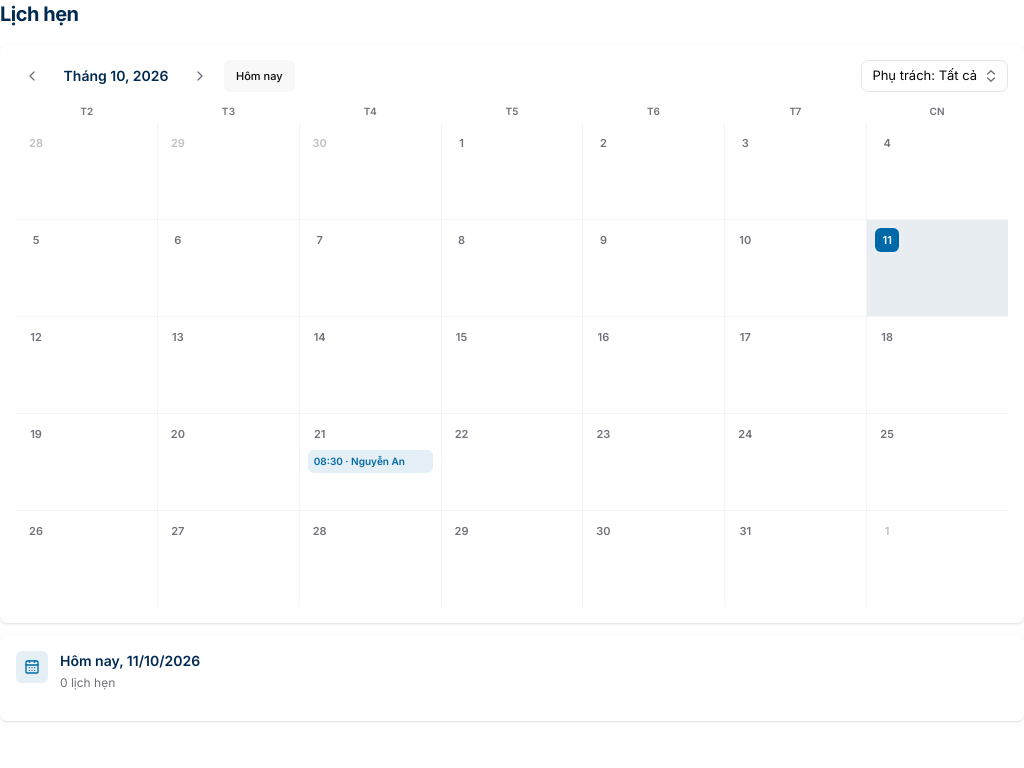
Test case: AppointmentCalendar › không có appointment.delete → không thấy nút Xoá
Click the button "08:30 · Nguyễn An".
click(370, 462)  # box x1=308 y1=450 x2=433 y2=473
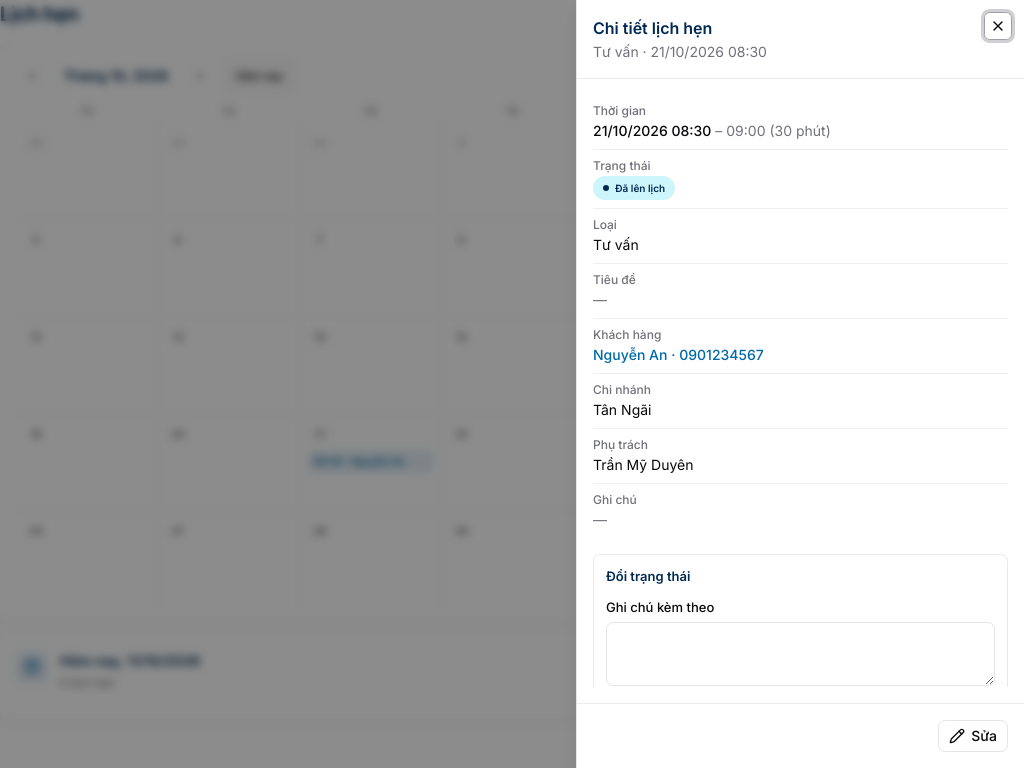
Check: the text "21/10/2026 08:30" is shown, box x1=593 y1=122 x2=711 y2=139
